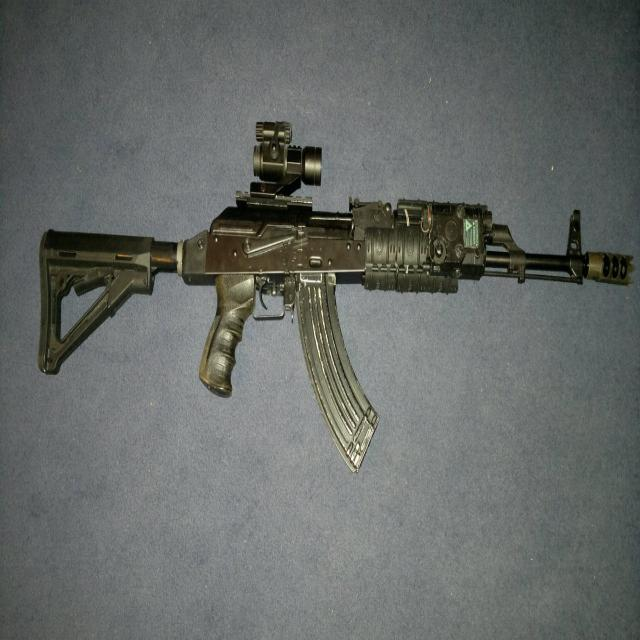firearm: (36, 119, 636, 478)
